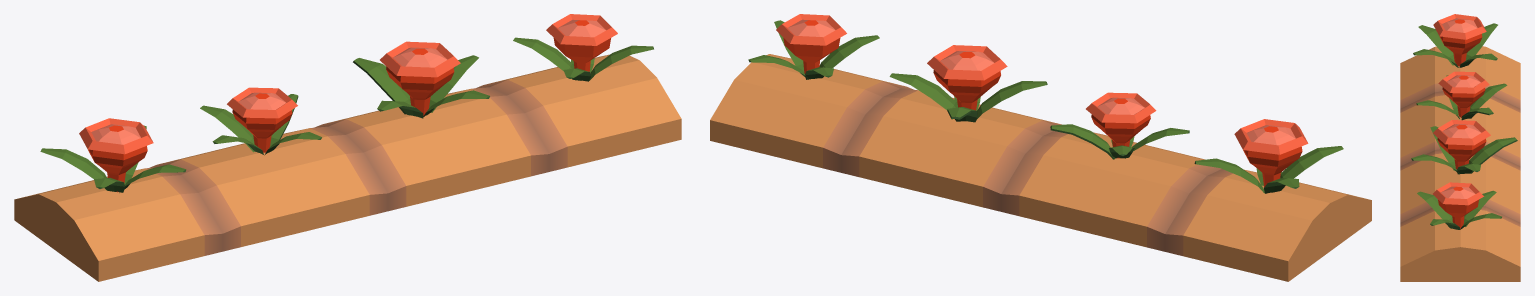
Rendered from FarmVegetation_04.glb.
3 renders of one model, left to right at view 1: azimuth 30°, elevation 25°; view 2: azimuth 150°, elevation 25°; view 3: azimuth 270°, elevation 25°, orthographic. The views are drawn at different scales.
Visible parts, largest first — view 1: FarmVegetation_04; view 2: FarmVegetation_04; view 3: FarmVegetation_04.
Part boxes in pixels (<box>): FarmVegetation_04: <box>14,14,681,281</box>; FarmVegetation_04: <box>710,14,1371,281</box>; FarmVegetation_04: <box>1400,14,1520,281</box>.
Size of what is drawn, in the model's own units: 4 by 0.7193 by 1.
Materials: 1 (1 with a texture image).
